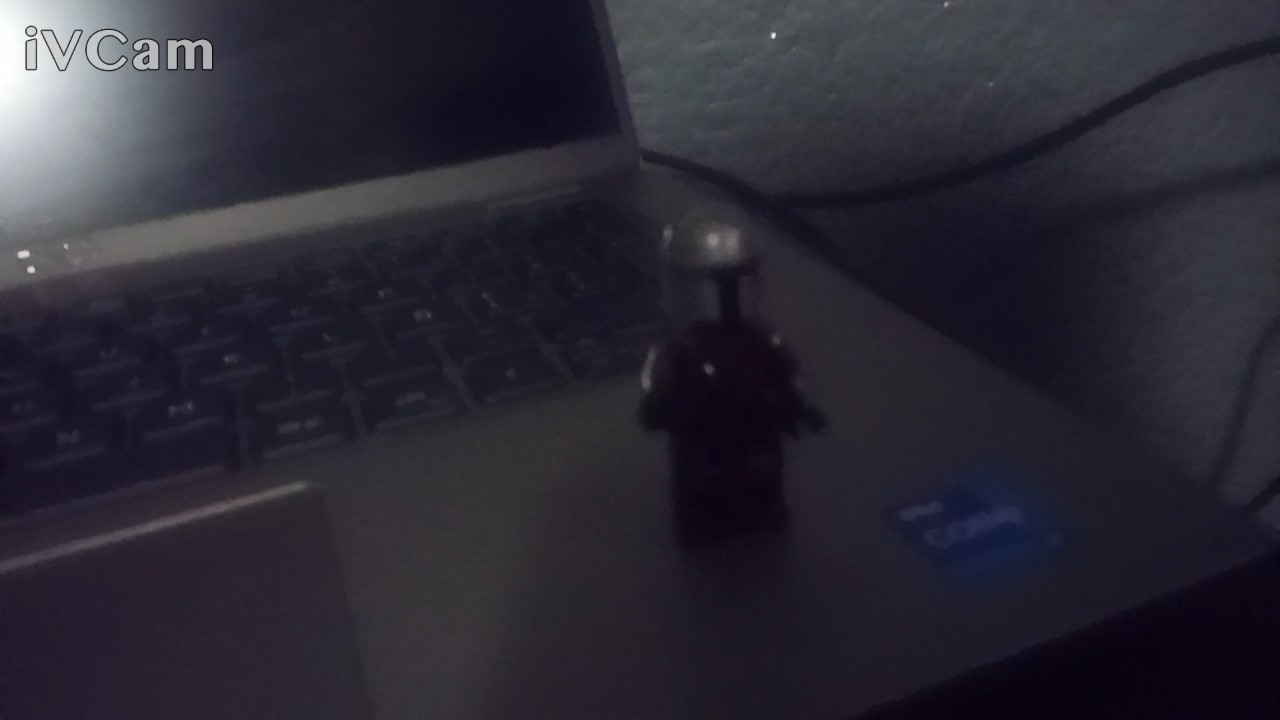mandalorian: (620, 188, 857, 576)
